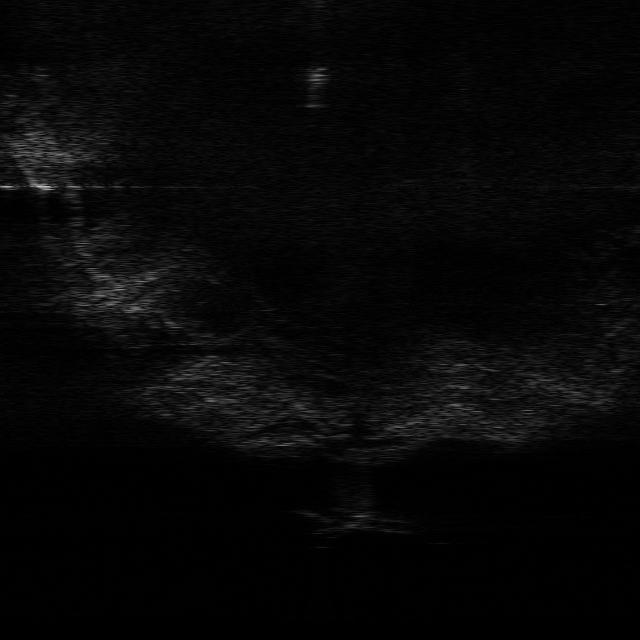plane: (297, 507, 415, 537)
